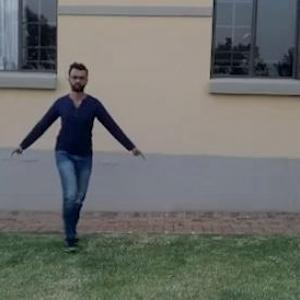land: (22, 71, 126, 230)
